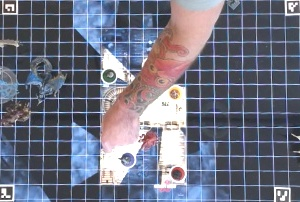green: (101, 69, 118, 83)
red: (170, 164, 187, 183)
violet: (118, 151, 137, 168)
yellow: (167, 83, 185, 101)
